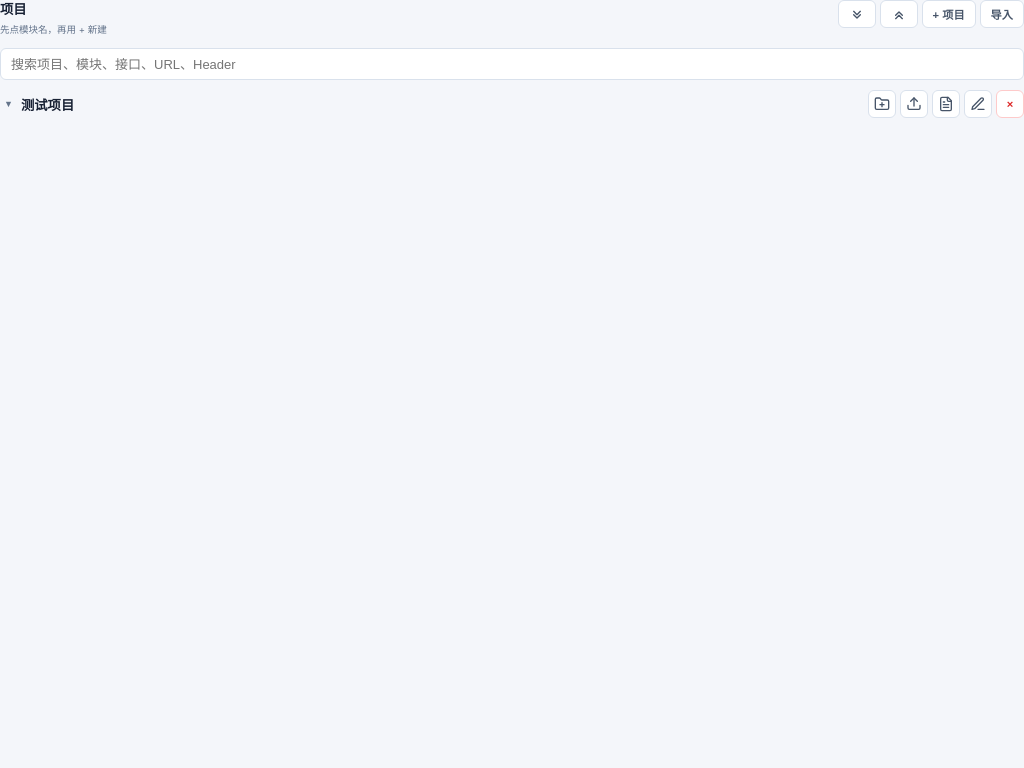
Scenario: ProjectTreePanel › HTML 导出弹窗说明敏感内容与真实响应会被安全省略
Click the button named "导出接口文档 HTML" at (946, 104), box [932, 90, 960, 118]
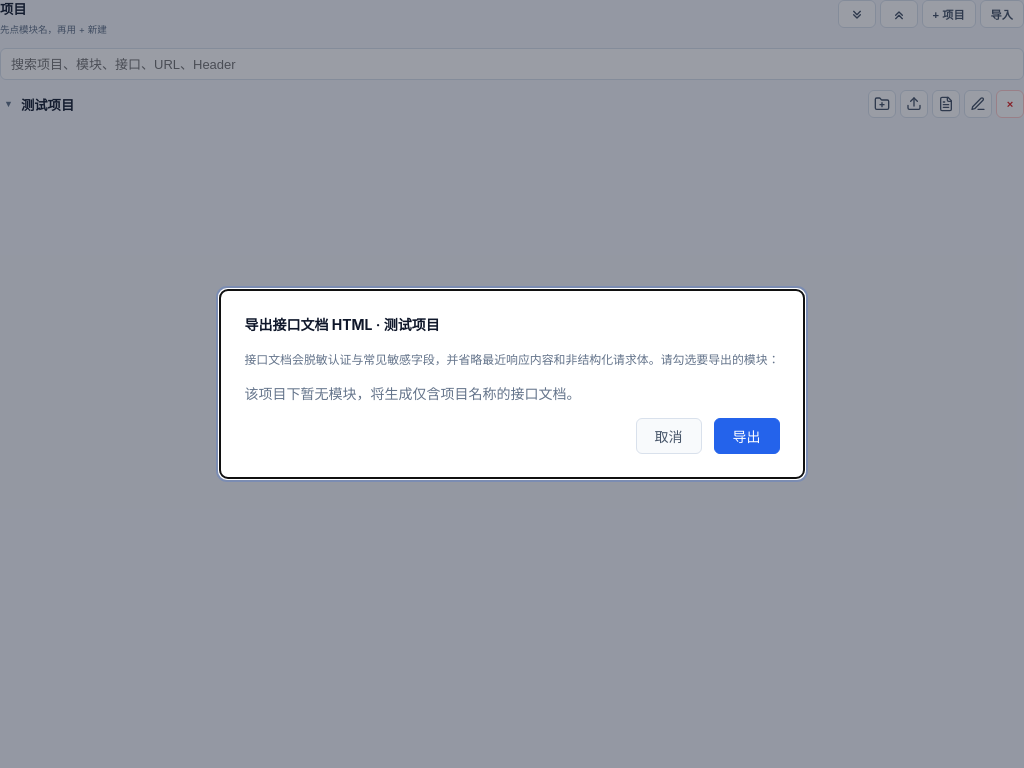
Now the dialog "导出接口文档 HTML" shows "接口文档会脱敏认证与常见敏感字段，并省略最近响应内容和非结构化请求体", box [244, 352, 661, 367]
